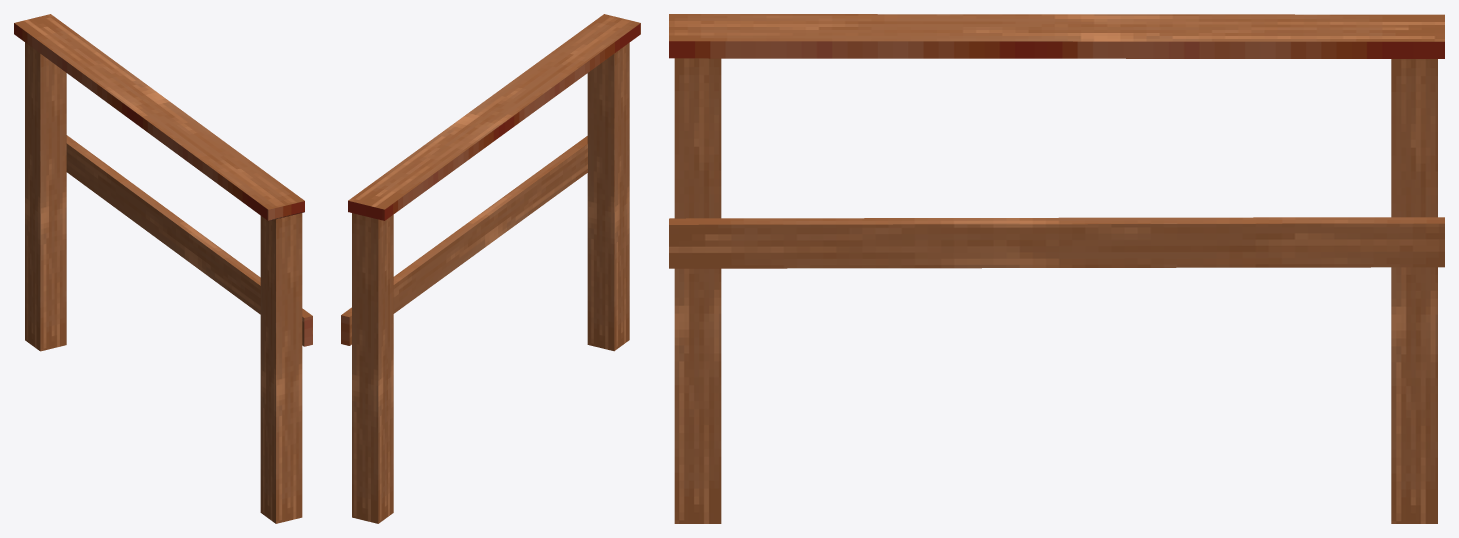
The model's file is fence.glb.
3 views of the same model, side by side, from view 1: azimuth 30°, elevation 25°; view 2: azimuth 150°, elevation 25°; view 3: azimuth 270°, elevation 25° (orthographic). The views are drawn at different scales.
Parts seen in each view (by area): view 1: Cube.002; view 2: Cube.002; view 3: Cube.002.
Part boxes in pixels (x1,y1,x2,y2): Cube.002: [14, 14, 312, 523]; Cube.002: [341, 14, 640, 523]; Cube.002: [669, 14, 1444, 523].
Size of the model in its own units: 1.39 by 9.51 by 13.83.
Materials: 1 (1 with a texture image).
